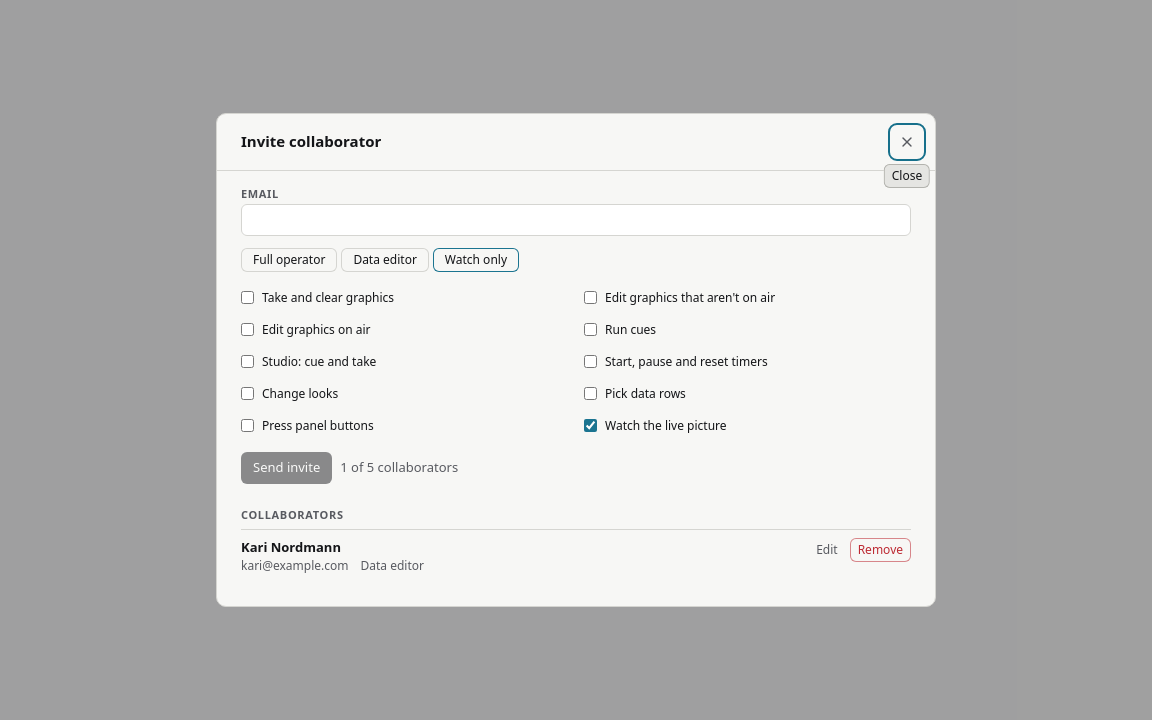
InviteDialog › someone already gone: says so and shows the list as it is now
Click the button "Remove" at (880, 550), box [850,538,911,562]
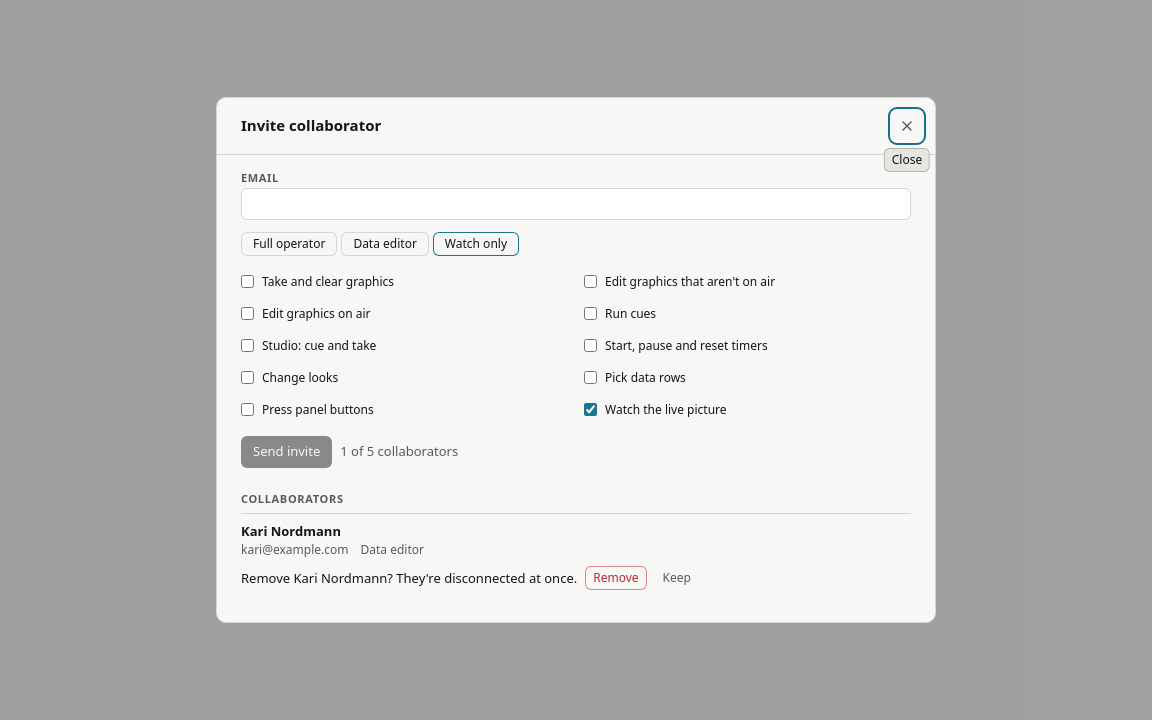
Click the button "Remove" at (616, 578), box [585,566,646,590]
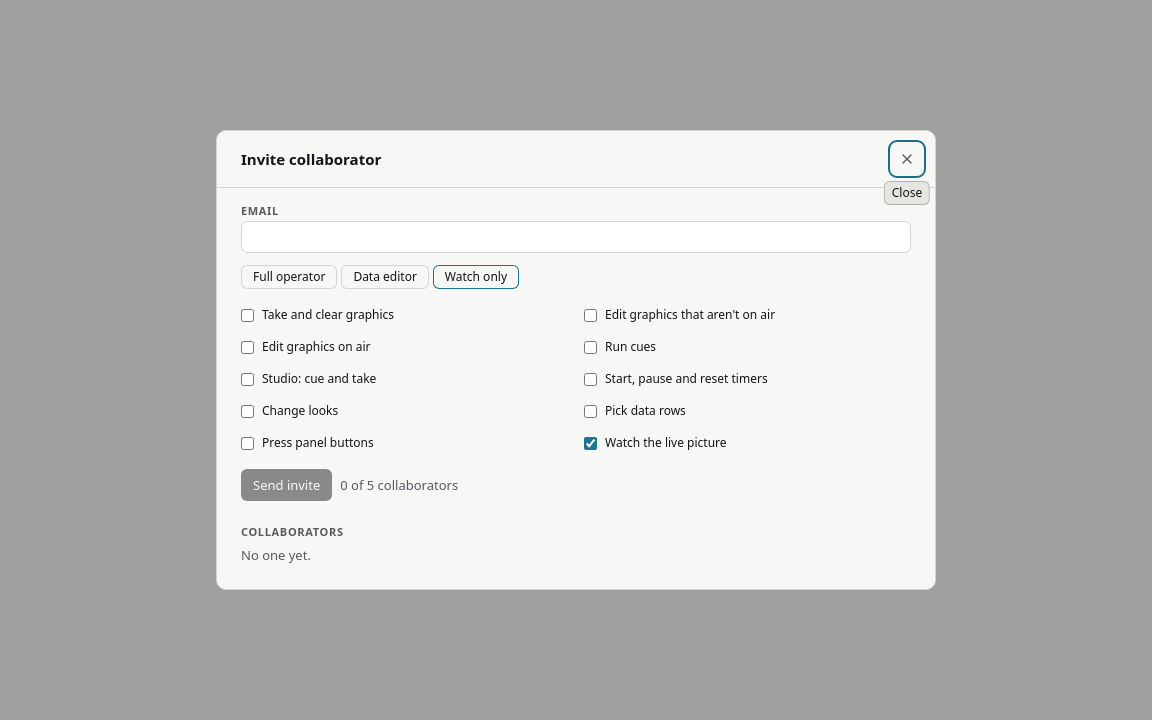
Expected: the button "Send invite" is shown, [241,469,332,501]
Expected: the text "No one yet." is shown, [241,546,311,565]
